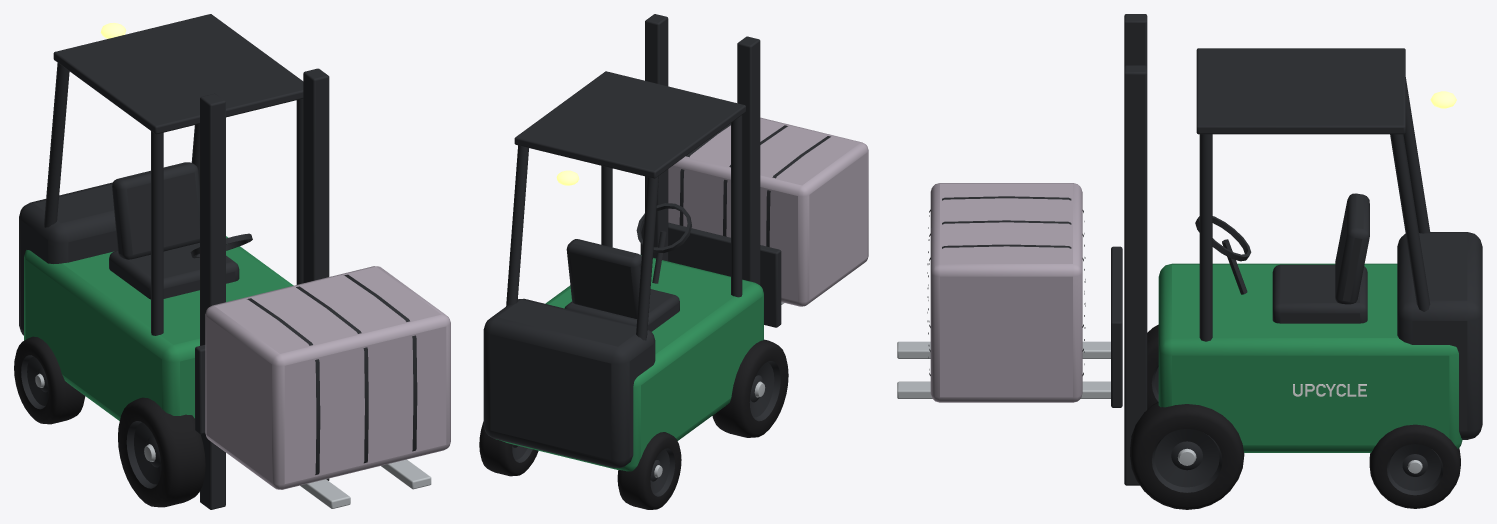
File: forklift_loaded.fbx
The picture shows the model from 3 angles, left to right: view 1: azimuth 30°, elevation 25°; view 2: azimuth 150°, elevation 25°; view 3: azimuth 270°, elevation 25°; orthographic projection. The views are drawn at different scales.
Parts seen in each view (by area): view 1: forklift_loaded; view 2: forklift_loaded; view 3: forklift_loaded.
Boxes of the visible parts, x1=… form: forklift_loaded: x1=14, y1=14, x2=450, y2=509; forklift_loaded: x1=479, y1=14, x2=868, y2=509; forklift_loaded: x1=897, y1=14, x2=1482, y2=509.
Size of the model in its own units: 1.2 by 2.45 by 3.08.
